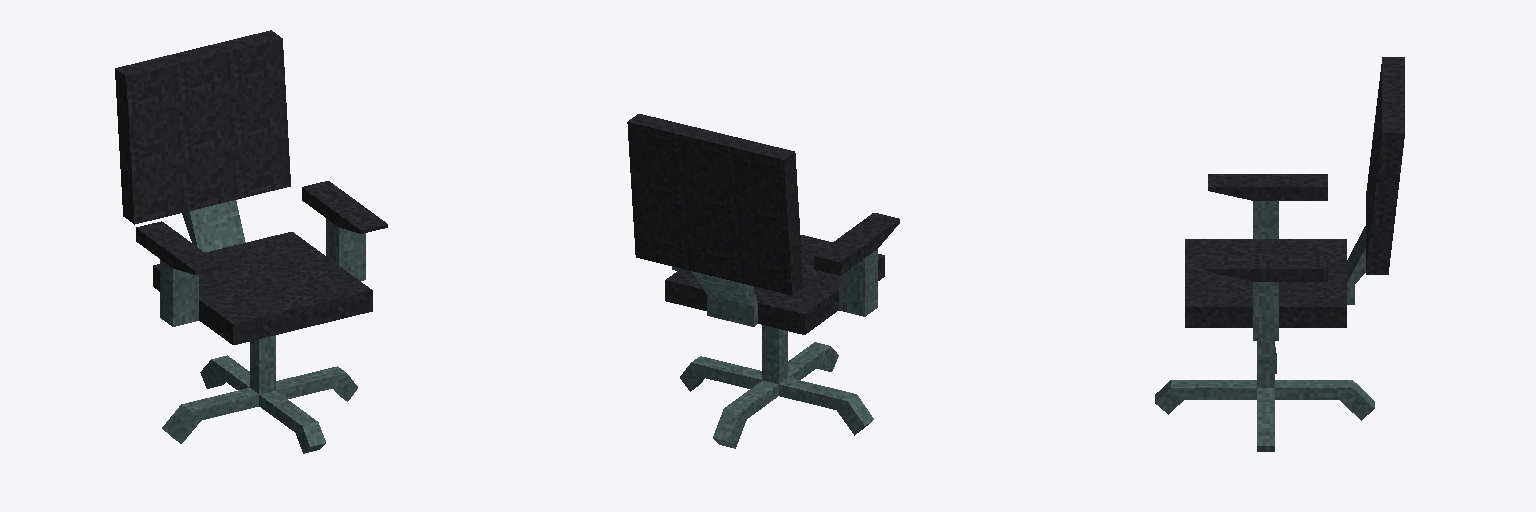
3 views of the same model, side by side, from view 1: azimuth 30°, elevation 25°; view 2: azimuth 150°, elevation 25°; view 3: azimuth 270°, elevation 25° (orthographic).
Visible parts, largest first — view 1: Metal; view 2: Metal; view 3: Metal.
Boxes of the visible parts, <box> form: Metal: <box>115,30,387,453</box>; Metal: <box>627,114,899,448</box>; Metal: <box>1155,57,1404,451</box>.
Bounding box in the file's own units: 0.8449 × 1.35 × 0.9497.
Materials: 2 (2 with a texture image).